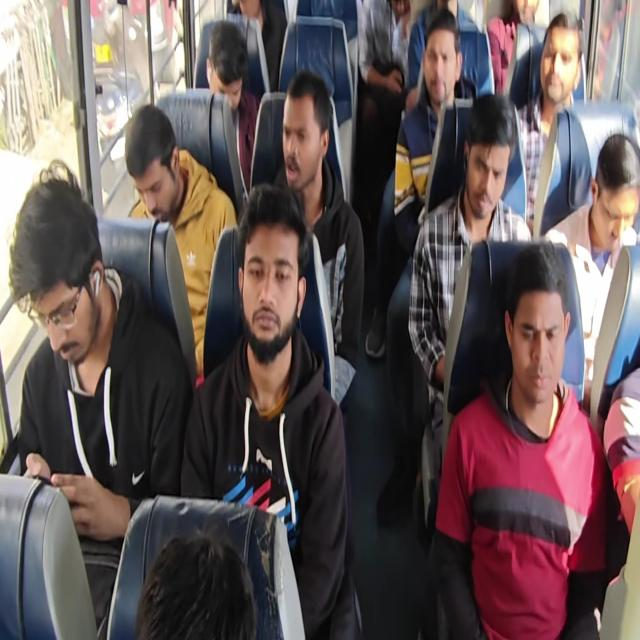person: (2, 162, 108, 368), (229, 175, 303, 405), (126, 530, 266, 637), (500, 237, 568, 412), (275, 56, 329, 197), (122, 99, 185, 217), (591, 118, 640, 263), (466, 82, 514, 220), (409, 13, 477, 108), (196, 17, 256, 119), (542, 10, 582, 110), (506, 2, 544, 31)
